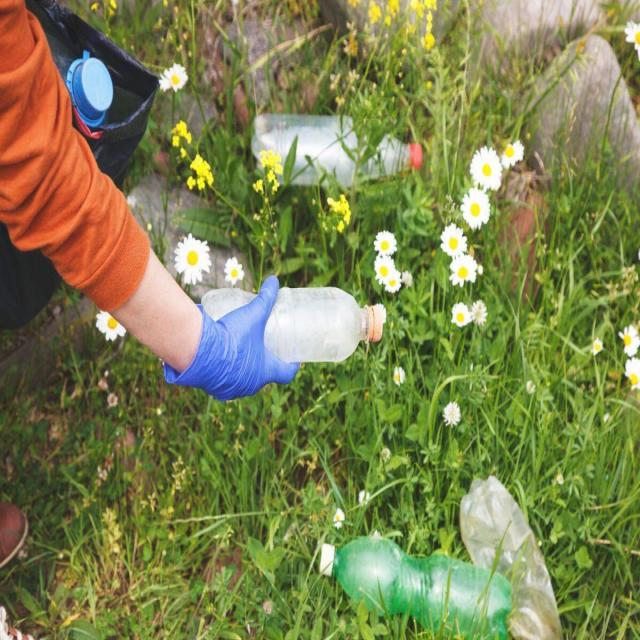bottle: (306, 527, 526, 636), (458, 467, 588, 640), (235, 109, 430, 193)
